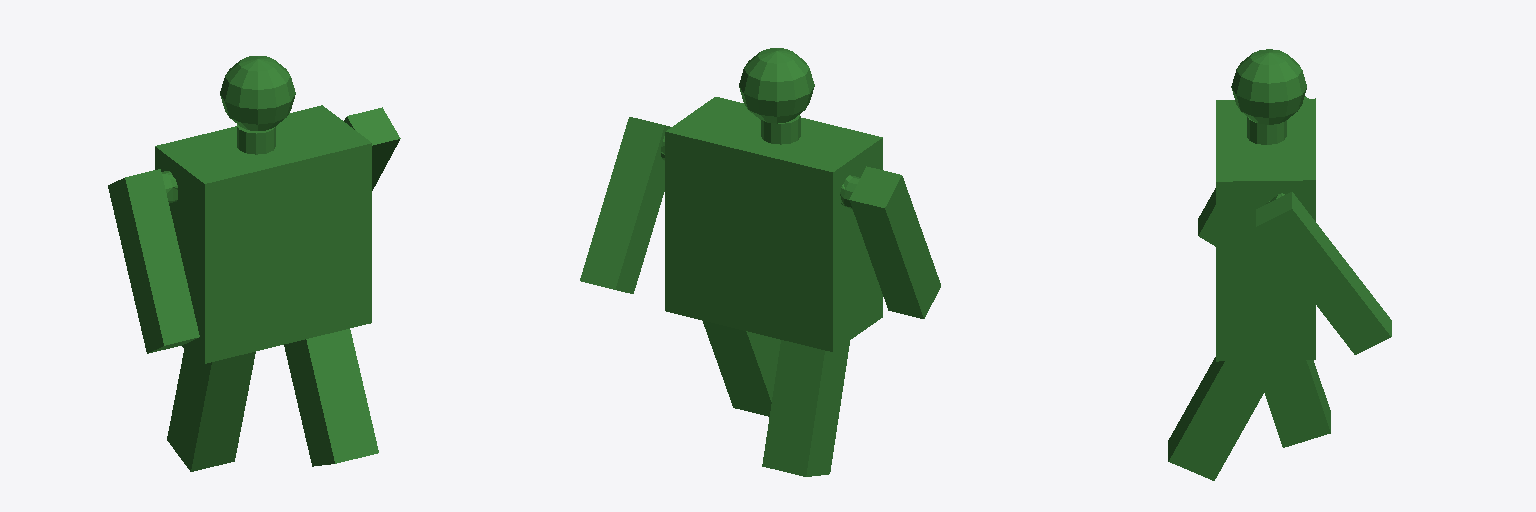
The model's file is msfigureStep1.obj.
3 renders of one model, left to right at view 1: azimuth 30°, elevation 25°; view 2: azimuth 150°, elevation 25°; view 3: azimuth 270°, elevation 25°, orthographic.
Parts seen in each view (by area): view 1: Regroup01; view 2: Regroup01; view 3: Regroup01.
Part boxes in pixels (bbox=[...]): Regroup01: bbox=[108, 56, 400, 471]; Regroup01: bbox=[580, 48, 940, 476]; Regroup01: bbox=[1168, 49, 1391, 480].
Bounding box in the file's own units: 0.4825 × 0.7015 × 0.3515.